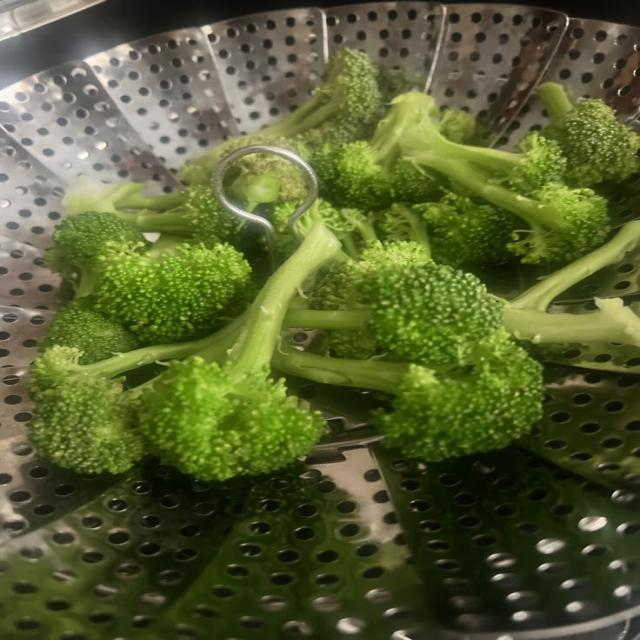broccoli: (30, 227, 339, 478), (140, 226, 339, 479), (274, 331, 543, 461), (29, 324, 236, 472), (403, 119, 608, 263), (313, 94, 565, 210), (181, 49, 383, 182), (47, 213, 251, 343), (287, 243, 502, 365), (503, 222, 639, 345), (287, 243, 430, 358), (96, 239, 251, 343), (312, 99, 446, 210), (29, 347, 145, 472), (63, 177, 239, 245), (538, 83, 639, 187), (379, 191, 519, 266), (45, 211, 146, 298), (413, 192, 519, 266), (180, 132, 310, 186), (41, 296, 140, 364), (271, 199, 377, 258), (62, 175, 183, 215), (439, 109, 477, 143)
